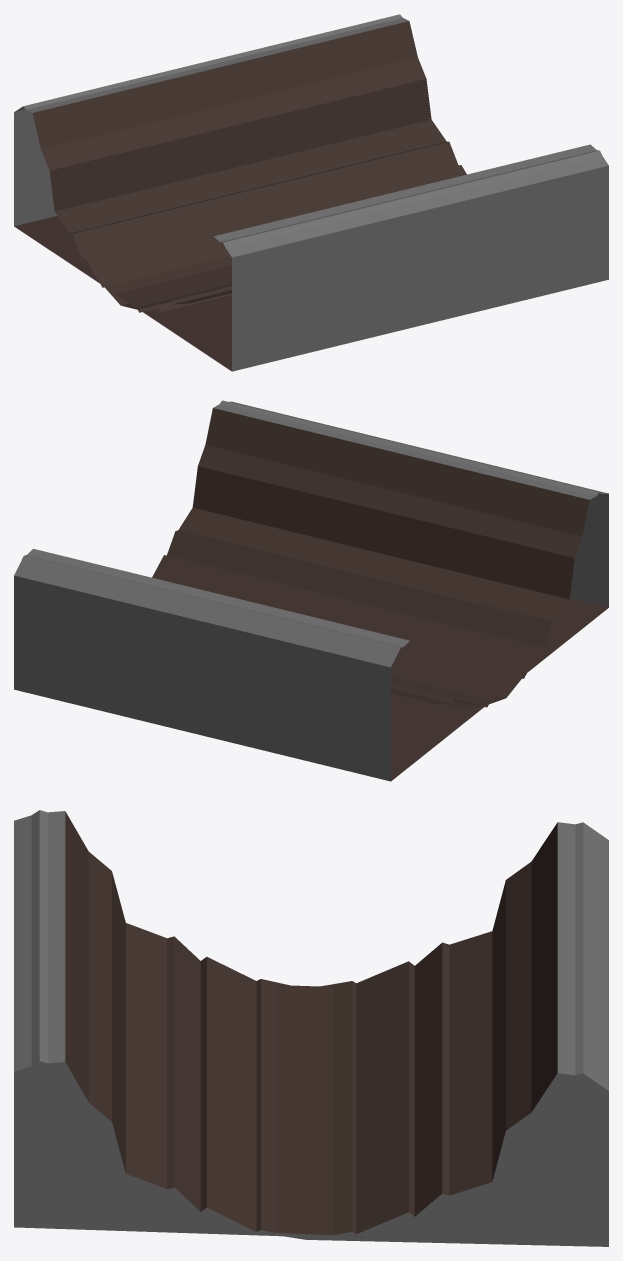
File: Pit Tile Middle.fbx
The picture shows the model from 3 angles, top to bottom: view 1: azimuth 30°, elevation 25°; view 2: azimuth 150°, elevation 25°; view 3: azimuth 270°, elevation 25°; orthographic projection. The views are drawn at different scales.
Visible parts, largest first — view 1: Middle Pit Tile; view 2: Middle Pit Tile; view 3: Middle Pit Tile.
Boxes of the visible parts, box(x1,y1,x2,y2) form: Middle Pit Tile: box(14, 14, 608, 371); Middle Pit Tile: box(14, 400, 608, 781); Middle Pit Tile: box(14, 810, 608, 1246).
Size of the model in its own units: 202 by 69.05 by 200.
